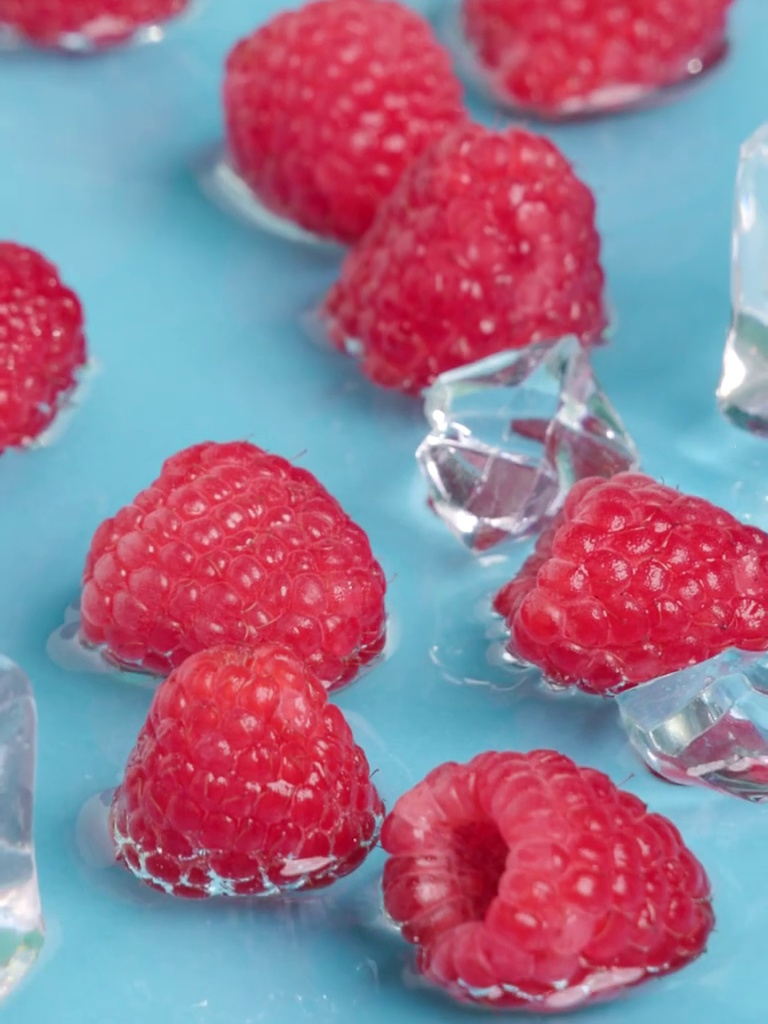Strawberry: (387, 744, 714, 1010), (74, 435, 401, 679), (322, 123, 607, 399), (113, 642, 384, 898), (228, 1, 480, 239), (499, 473, 768, 692)
